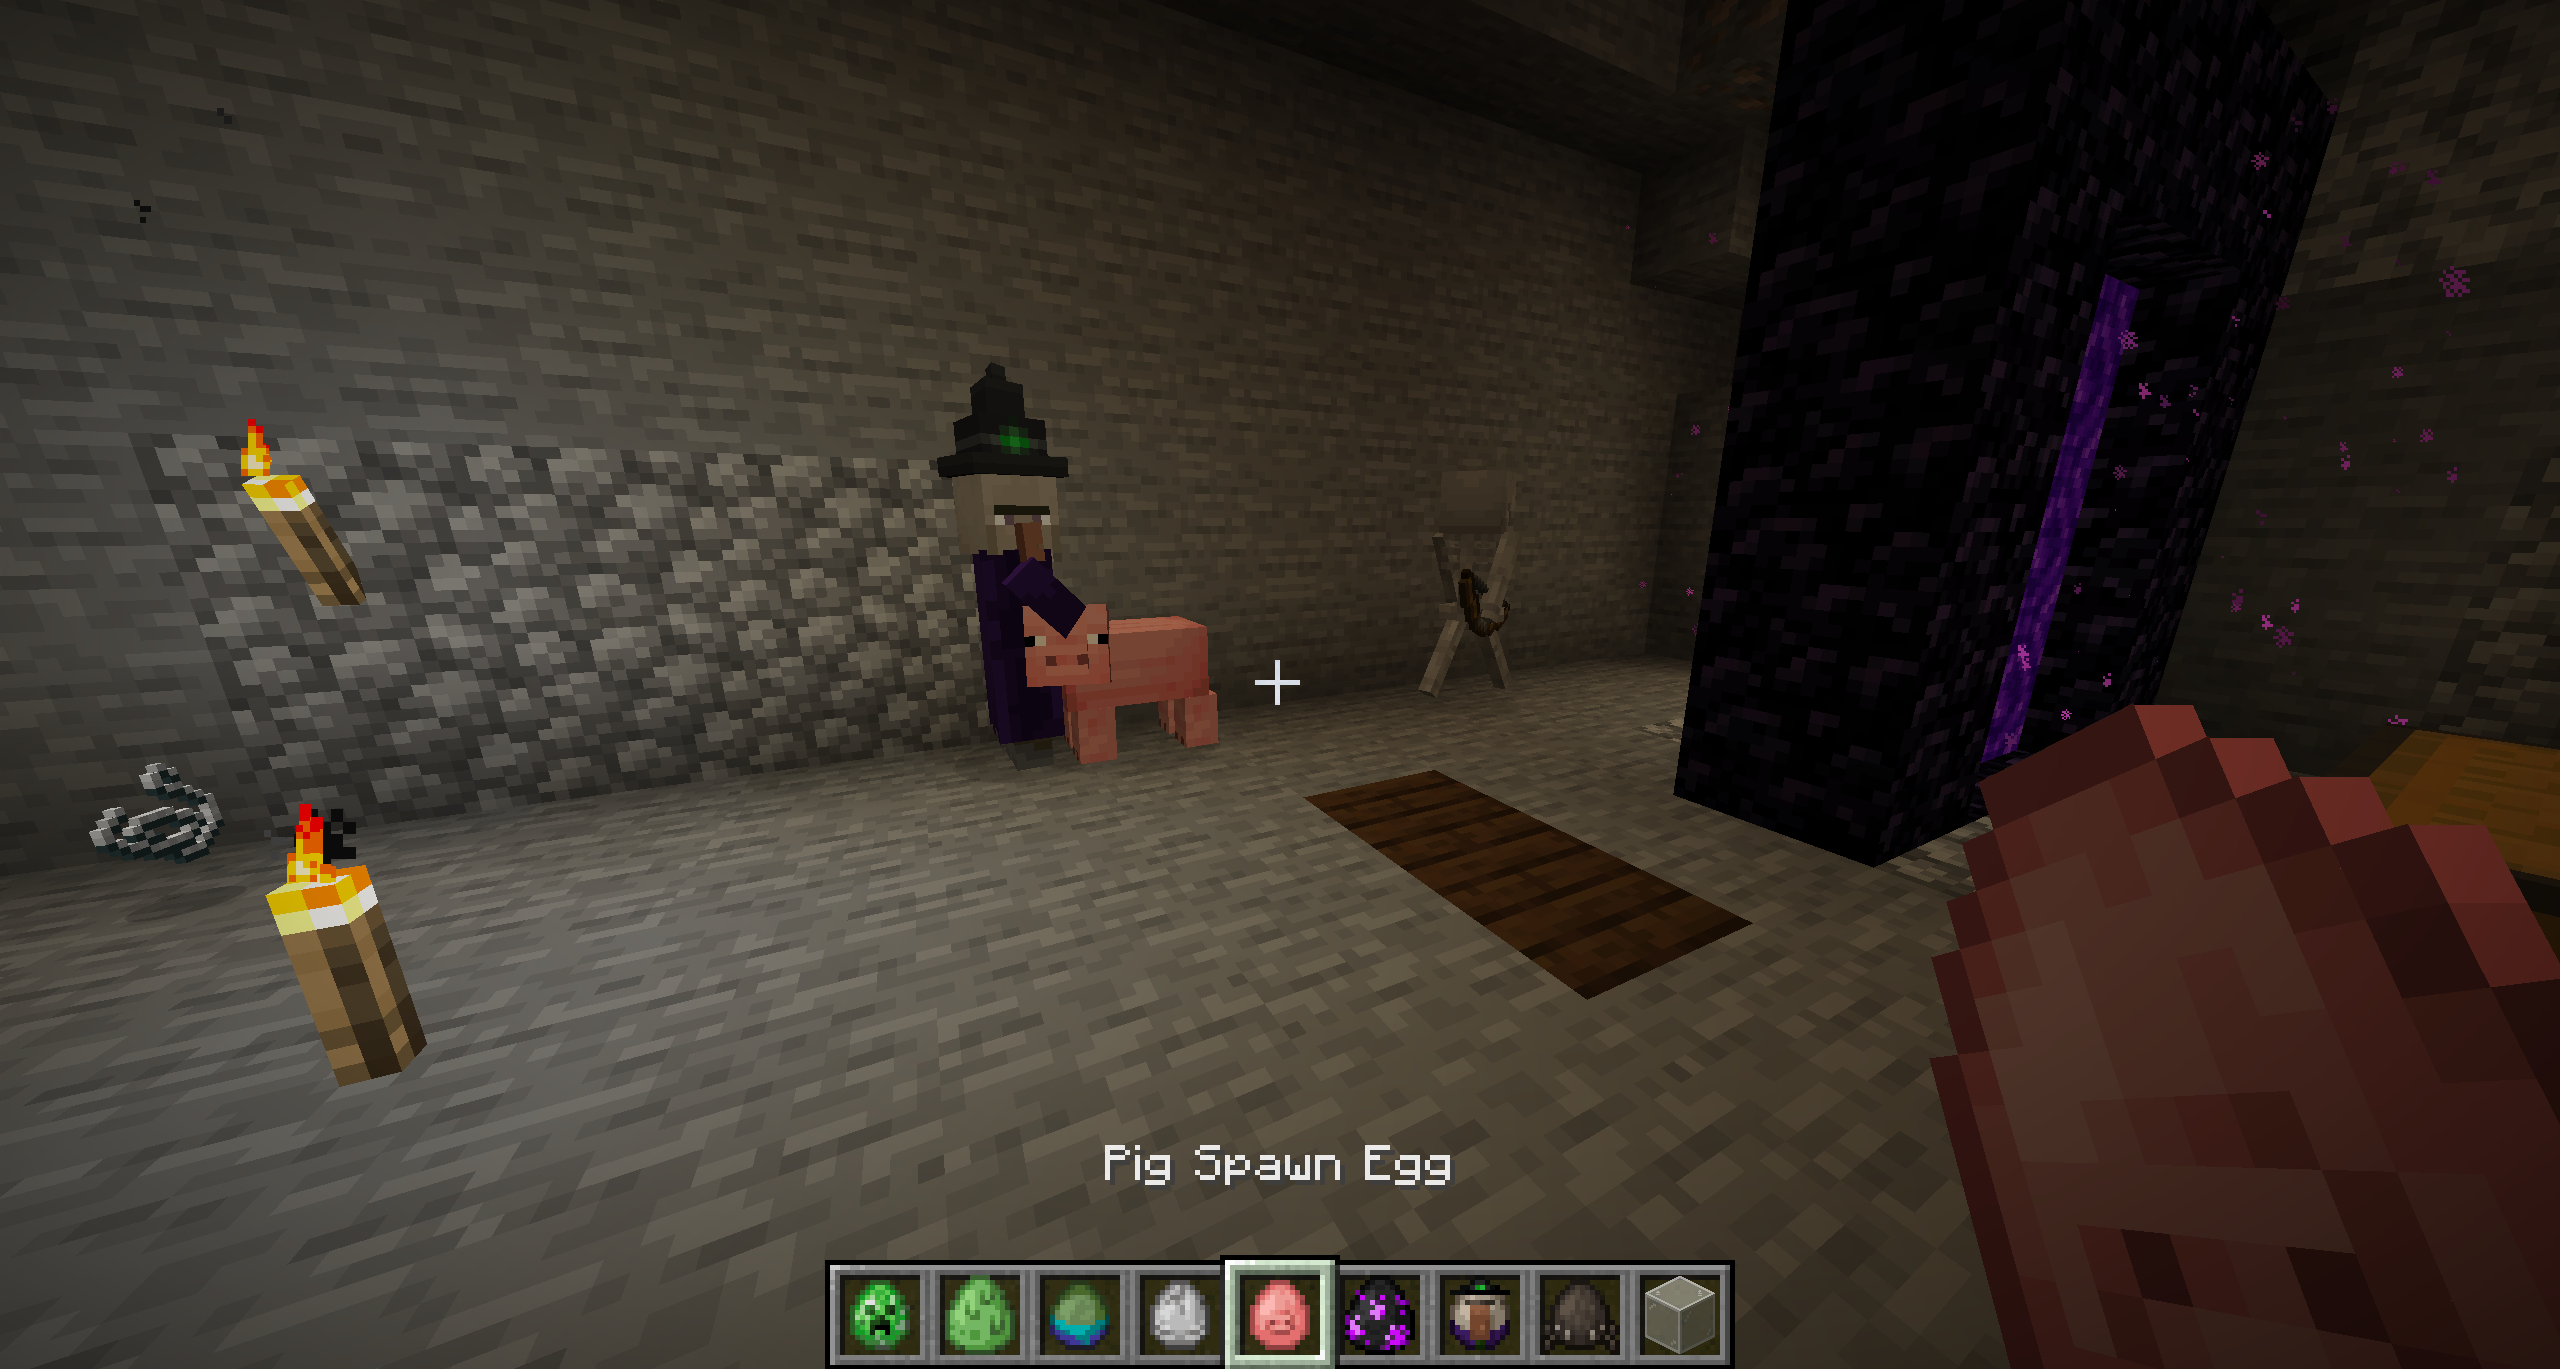cochons: (1012, 601, 1233, 756)
sorcieres: (936, 359, 1075, 748)
squelettes: (1424, 462, 1526, 699)
